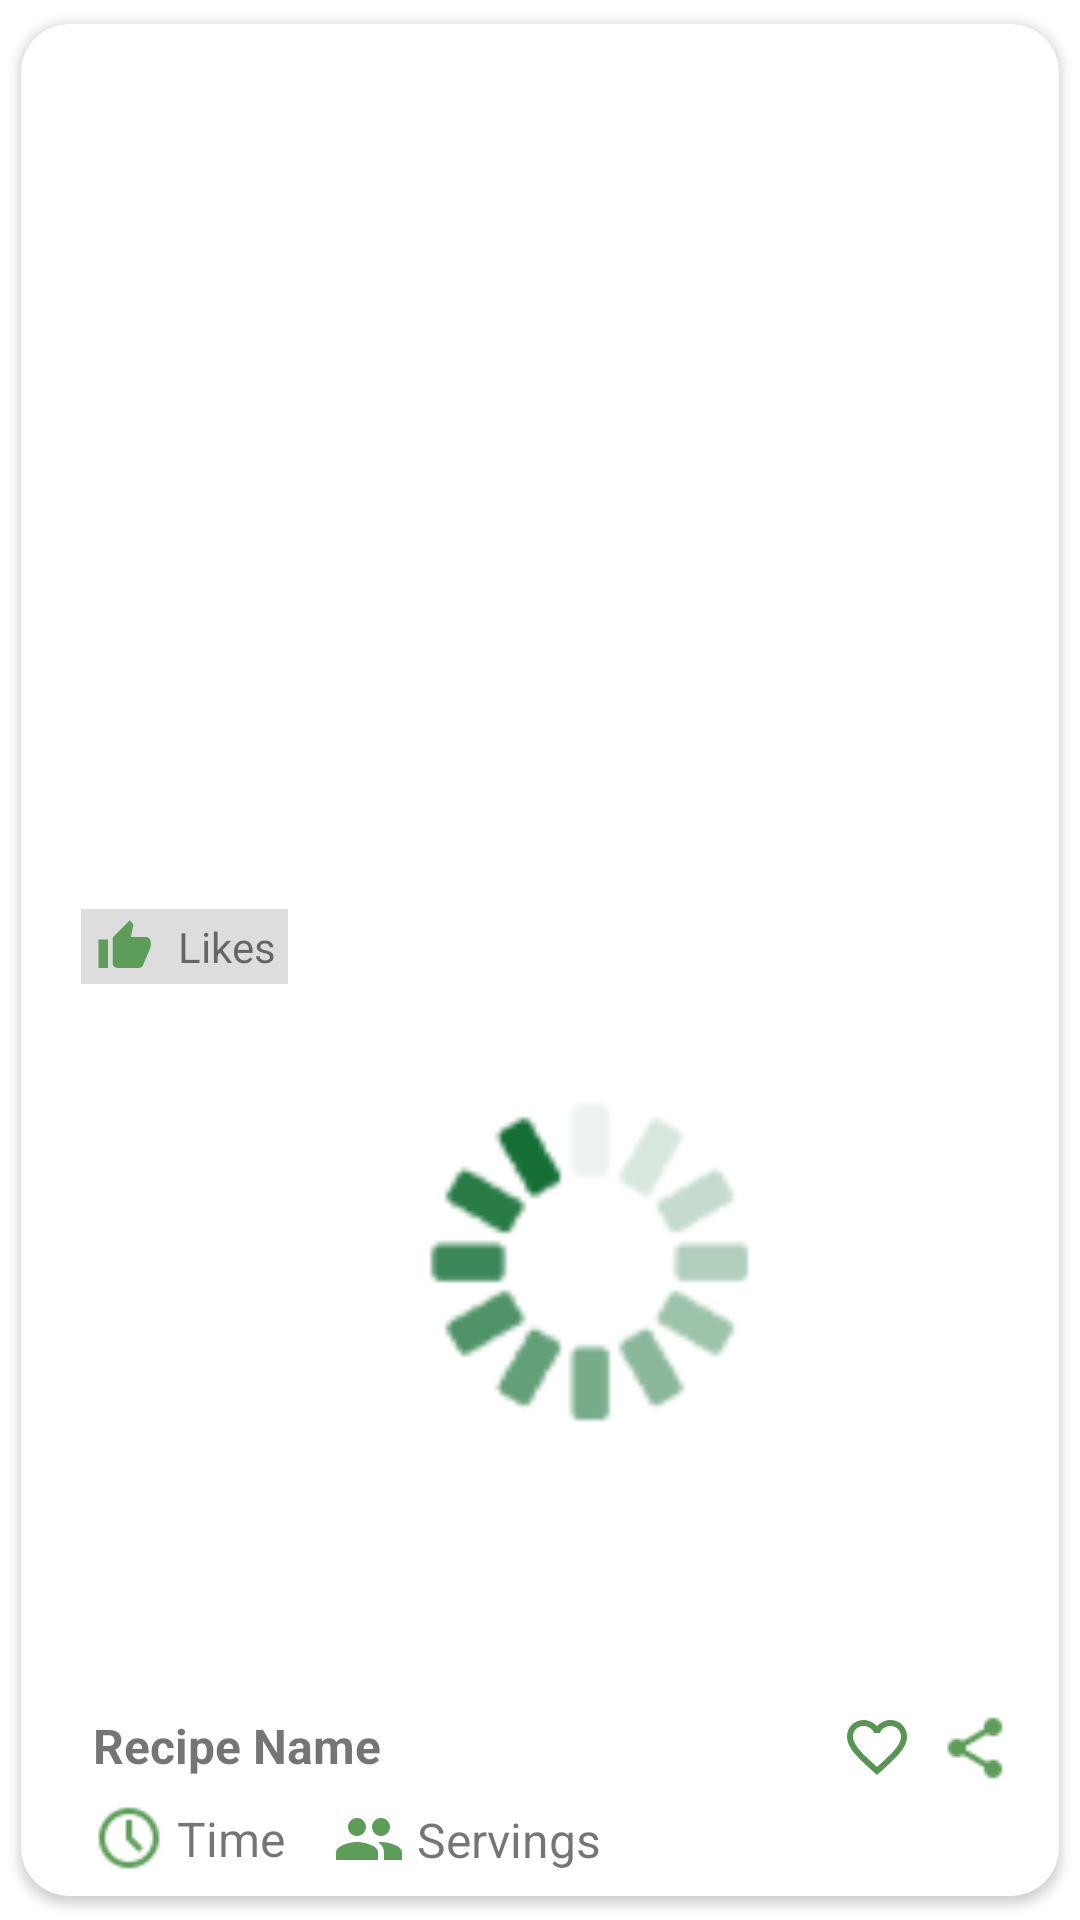

Screen size 1080px×1920px. Icon name, then its center in pixels as point (x, y):
clock: point (129, 1838)
people: point (369, 1839)
share: point (975, 1748)
